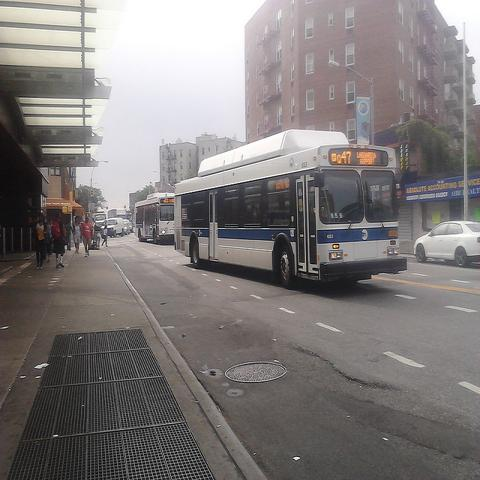bus: (172, 129, 409, 288), (134, 192, 174, 245)
car: (414, 221, 479, 269), (101, 218, 125, 238), (125, 223, 130, 234), (129, 220, 133, 232)
truck: (93, 210, 106, 226)
